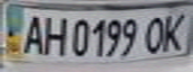0: (66, 16, 90, 57)
1: (87, 16, 109, 57)
9: (118, 15, 142, 57), (103, 16, 124, 57)
A: (18, 11, 48, 55)
H: (39, 12, 69, 56)
K: (157, 9, 193, 52)
O: (139, 12, 172, 55)
